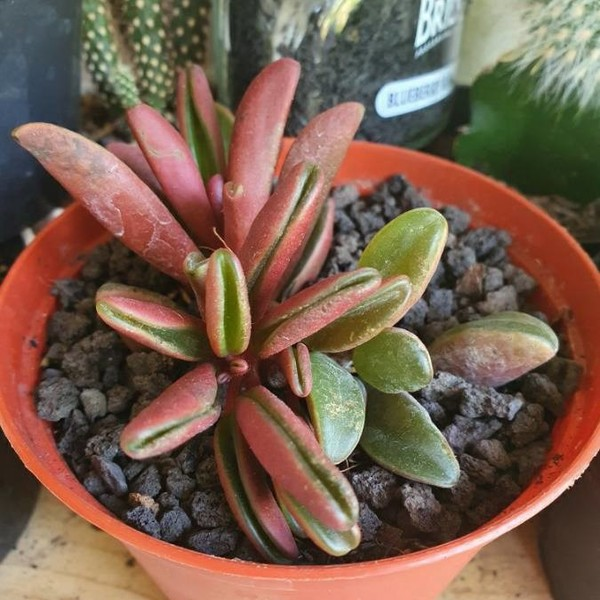obstacle: (25, 38, 596, 571)
